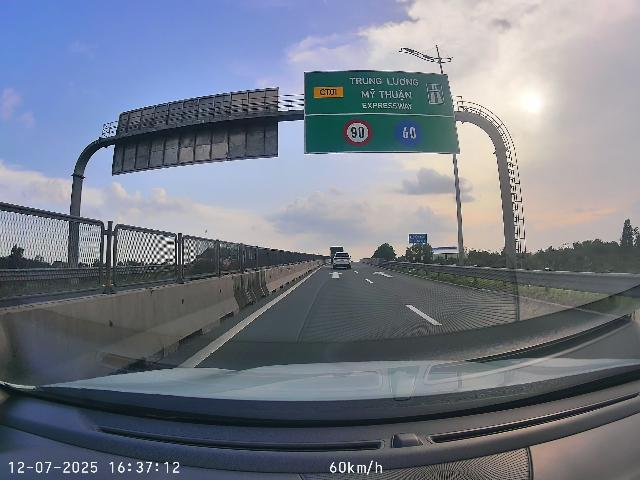127-toc-do-toi-da-90: (342, 118, 373, 147)
306-toc-do-toi-thieu-60: (395, 119, 423, 147)
437-bat-dau-duong-cao-toc: (426, 83, 445, 105)
